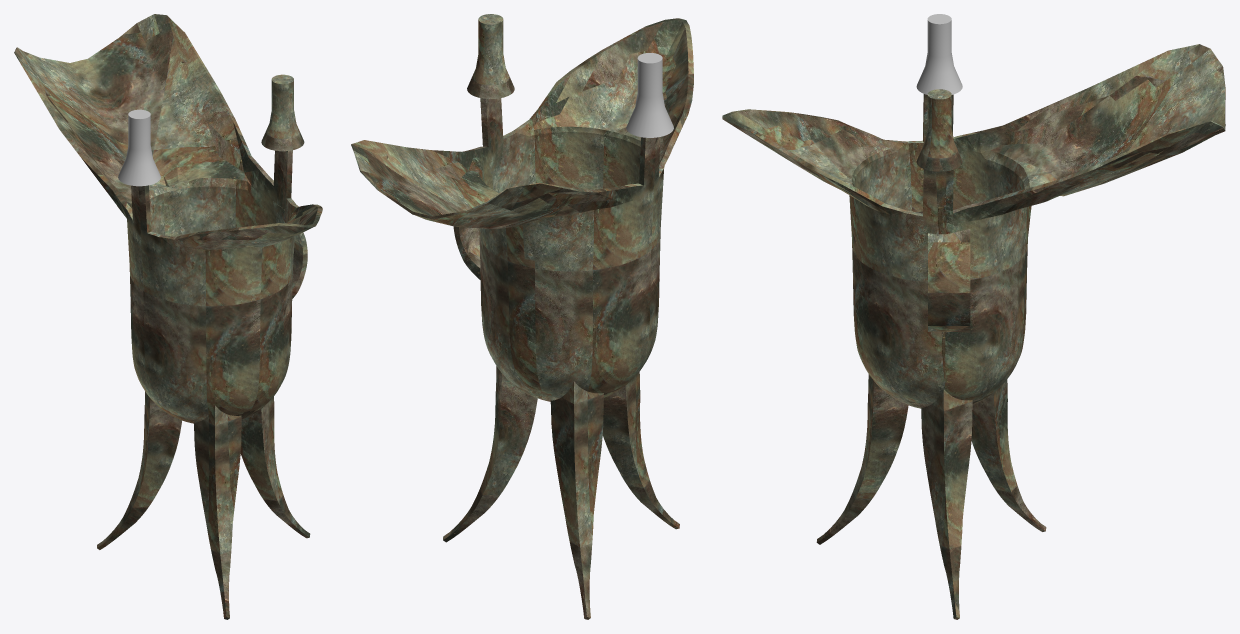
File: QingTongJiuZun.FBX
3 renders of one model, left to right at view 1: azimuth 30°, elevation 25°; view 2: azimuth 150°, elevation 25°; view 3: azimuth 270°, elevation 25°, orthographic. The views are drawn at different scales.
Parts seen in each view (by area): view 1: Line01, Loft03, Loft02, Loft01, Circle02, Circle01, Line02; view 2: Line01, Loft02, Loft01, Loft03, Circle01, Circle02, Line02; view 3: Line01, Loft01, Loft03, Line02, Loft02, Circle01, Circle02.
Part boxes in pixels (x1,y1,x2,y2): Line01: [14, 14, 322, 423]; Loft03: [194, 405, 241, 619]; Loft02: [97, 391, 181, 549]; Loft01: [240, 396, 310, 538]; Circle02: [118, 109, 160, 186]; Circle01: [261, 74, 304, 151]; Line02: [273, 201, 307, 298]; Line01: [351, 18, 693, 401]; Loft02: [550, 381, 603, 619]; Loft01: [443, 366, 537, 542]; Loft03: [602, 372, 679, 529]; Circle01: [467, 14, 514, 98]; Circle02: [626, 53, 673, 137]; Line02: [453, 155, 501, 279]; Line01: [722, 44, 1225, 408]; Loft01: [921, 389, 972, 619]; Loft03: [816, 374, 908, 544]; Line02: [928, 229, 970, 332]; Loft02: [971, 379, 1046, 531]; Circle01: [916, 89, 962, 171]; Circle02: [916, 14, 962, 94].
Bounding box in the file's own units: 70.09 × 161 × 144.
